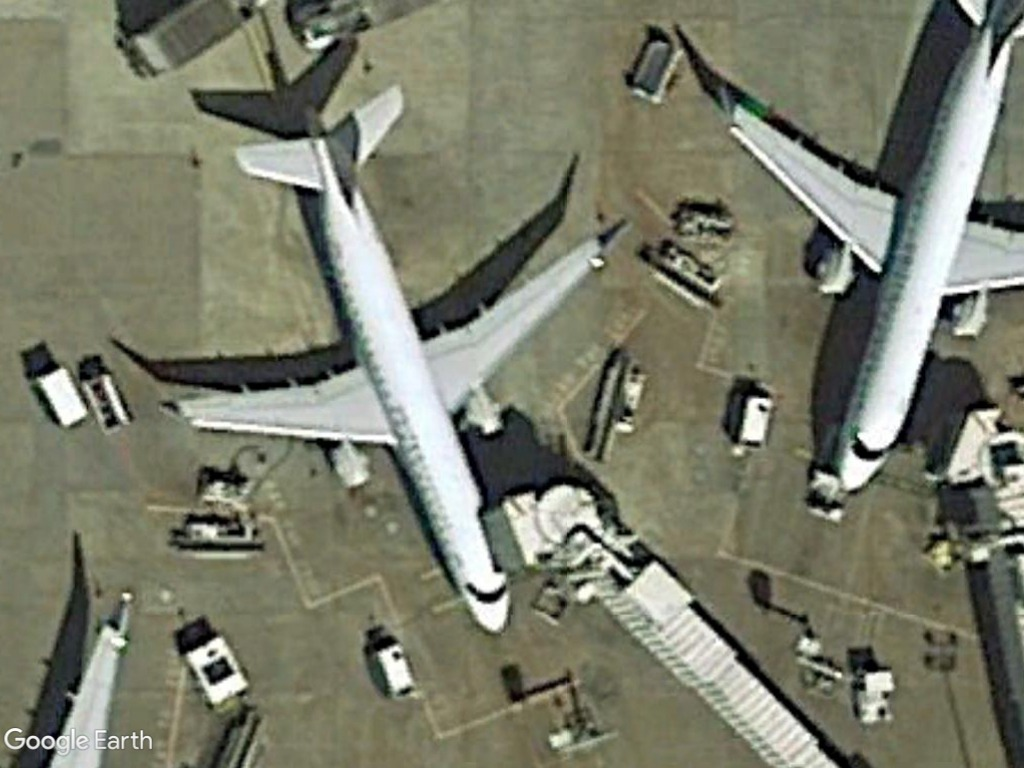airliner: (150, 80, 632, 637)
